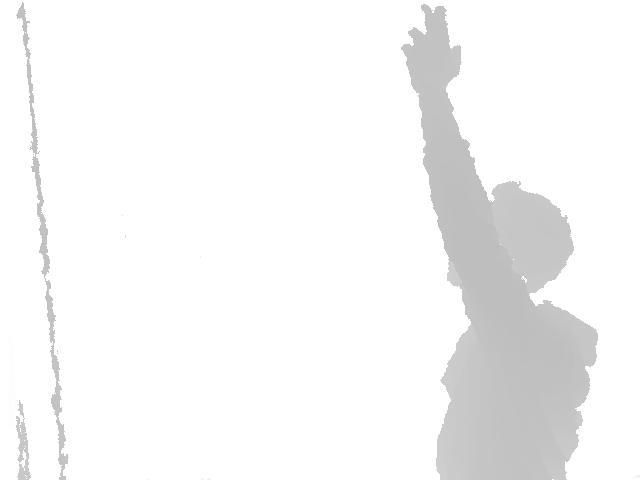hand: (400, 4, 463, 97)
head: (447, 180, 574, 299)
person: (400, 4, 600, 480)
